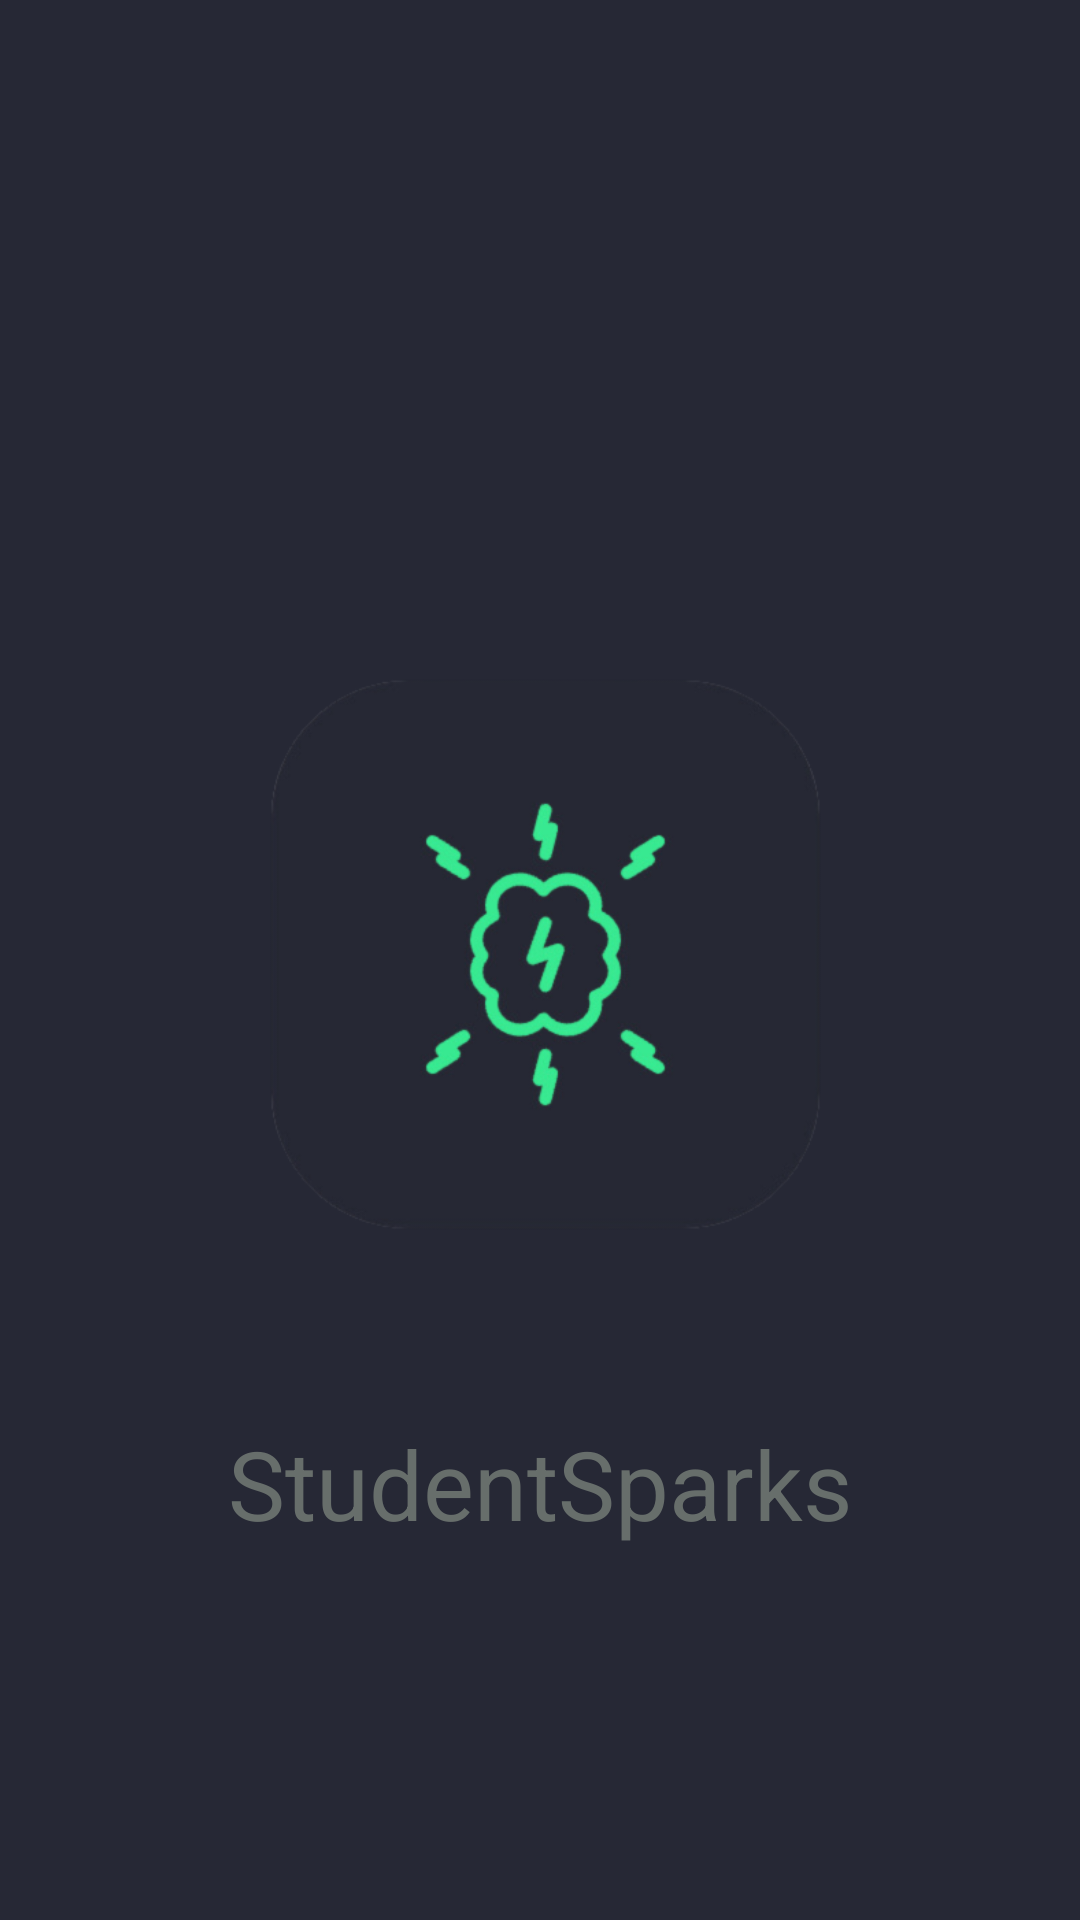

Locate icon controls on the screen. Image size 1080px x 1920px, boxes as (left=x1, top=y1, right=x2, bottom=y2).
studentspark: (left=426, top=803, right=666, bottom=1106)
